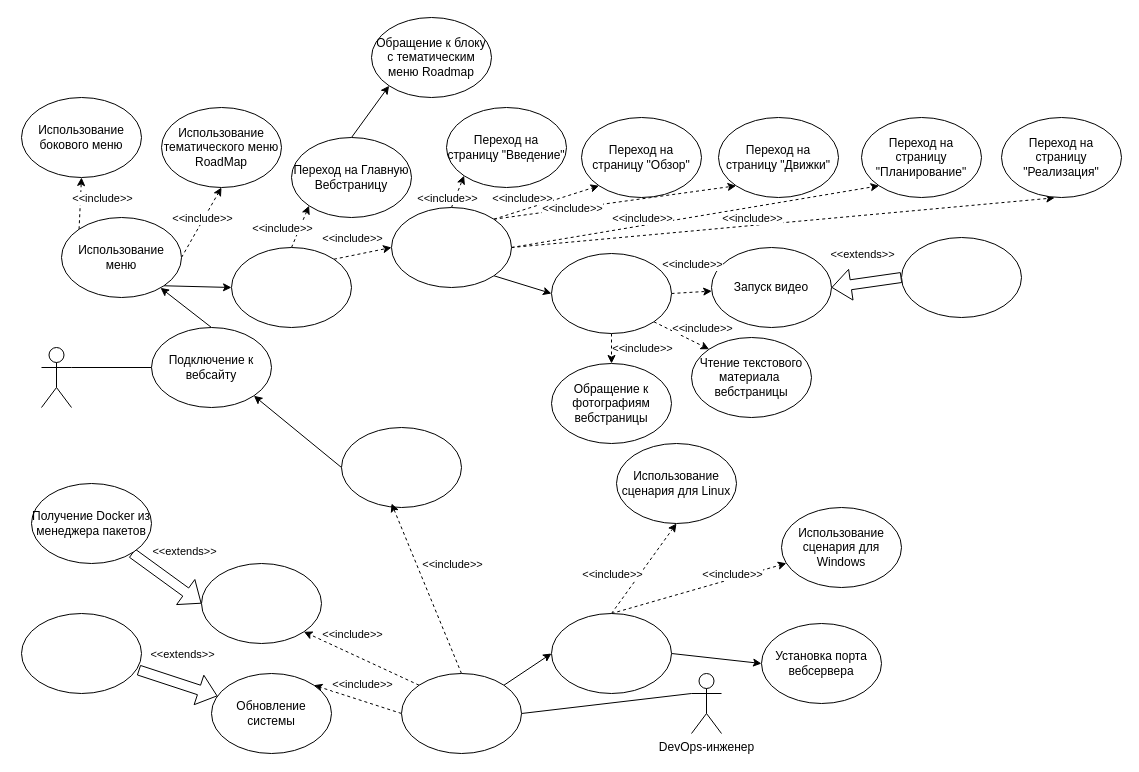
Some shapes in this 1139 by 772 pixel diagram are drawn without their labels. Each missing label, with the centre of its shape:
"Запуск скрипта установки" belongs at pixel 611 653.
"Использование API YouTube" belongs at pixel 961 277.
"Обращение к контенту страницы" belongs at pixel 611 293.
"Переход на вебстраницу" belongs at pixel 291 287.
"Переход на страницу с Главой" belongs at pixel 451 247.
"Получение обновлений из менеджера пакетов" belongs at pixel 81 653.
"Пользователь" belongs at pixel 56 377.
"Предварительная подготовка" belongs at pixel 461 713.
"Проверка работы вебсайта" belongs at pixel 401 467.
"Установка Docker" belongs at pixel 261 603.
